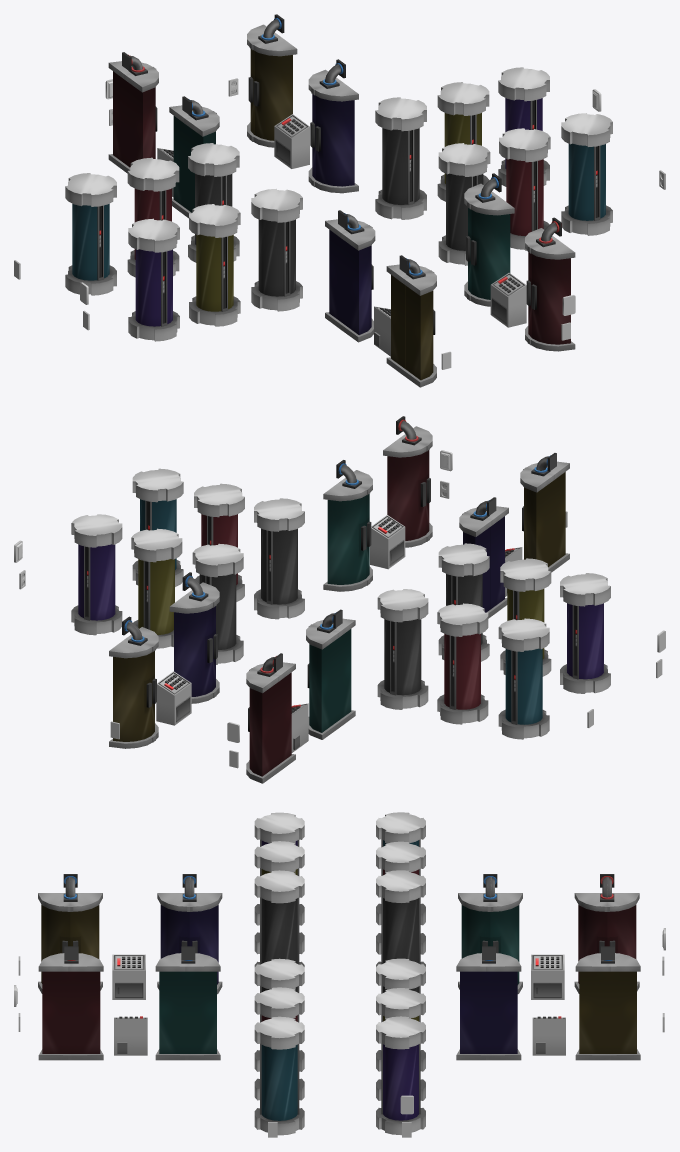
File: Room14Set2.FBX
3 renders of one model, top to bottom at view 1: azimuth 30°, elevation 25°; view 2: azimuth 150°, elevation 25°; view 3: azimuth 270°, elevation 25°, orthographic. The views are drawn at different scales.
Parts seen in each view (by area): view 1: object090, object097, object091, object089, object092, object095, object088, object116, object121, object115, object119, object093 (+19 smaller); view 2: object095, object098, object099, object094, object092, object093, object096, object120, object114, object117, object122, object097 (+19 smaller); view 3: object089, object098, object091, object099, object122, object115, object121, object120, object117, object119, object114, object116 (+20 smaller).
Part boxes in pixels (x1,y1,x2,y2): object090: [189, 204, 240, 326]; object097: [375, 97, 426, 219]; object091: [251, 188, 302, 311]; object089: [561, 113, 612, 235]; object092: [128, 218, 179, 341]; object095: [65, 173, 116, 295]; object088: [499, 128, 550, 250]; object116: [311, 81, 358, 193]; object121: [527, 240, 575, 351]; object115: [249, 36, 297, 147]; object119: [467, 195, 514, 306]; object093: [438, 143, 490, 265]; object095: [498, 618, 549, 739]; object098: [71, 514, 122, 635]; object099: [377, 589, 428, 709]; object094: [437, 603, 488, 724]; object092: [560, 573, 610, 693]; object093: [254, 498, 304, 619]; object096: [131, 528, 182, 649]; object120: [323, 481, 370, 591]; object114: [109, 638, 155, 748]; object117: [169, 593, 216, 703]; object122: [383, 438, 429, 547]; object097: [192, 543, 243, 664]; object089: [254, 1016, 304, 1135]; object098: [376, 1016, 425, 1135]; object091: [254, 870, 304, 966]; object099: [376, 870, 425, 966]; object122: [68, 953, 103, 1060]; object115: [575, 953, 610, 1060]; object121: [38, 953, 74, 1060]; object120: [185, 953, 220, 1060]; object117: [486, 953, 521, 1060]; object119: [155, 953, 190, 1060]; object114: [605, 953, 640, 1060]; object116: [456, 953, 491, 1060].
Size of the model in its own units: 120 by 22.89 by 120.
